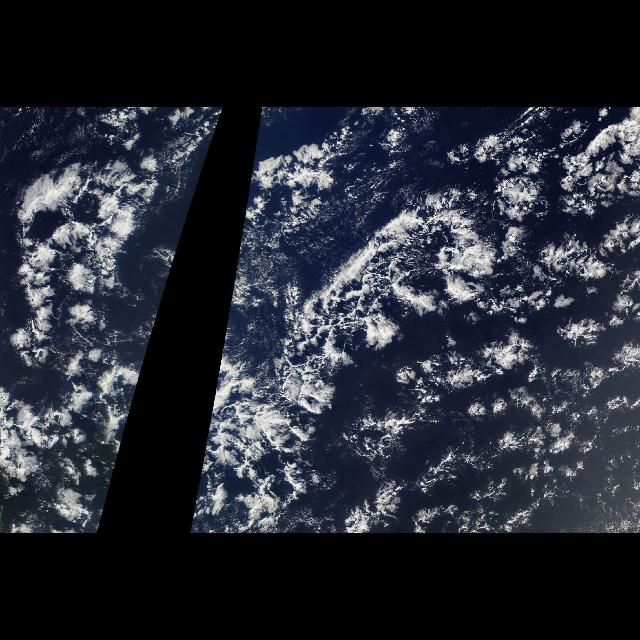Fish: (200, 192, 488, 478)
Flower: (376, 198, 640, 508)
